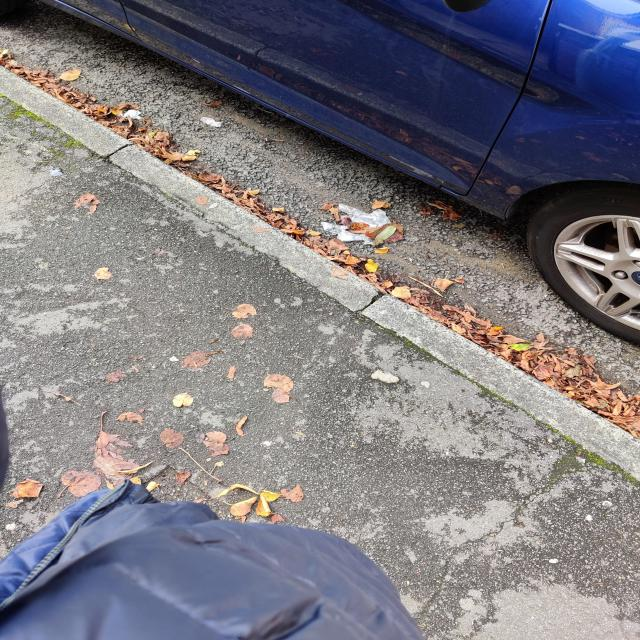litter: (320, 197, 403, 250), (113, 108, 148, 130), (199, 112, 231, 133)
